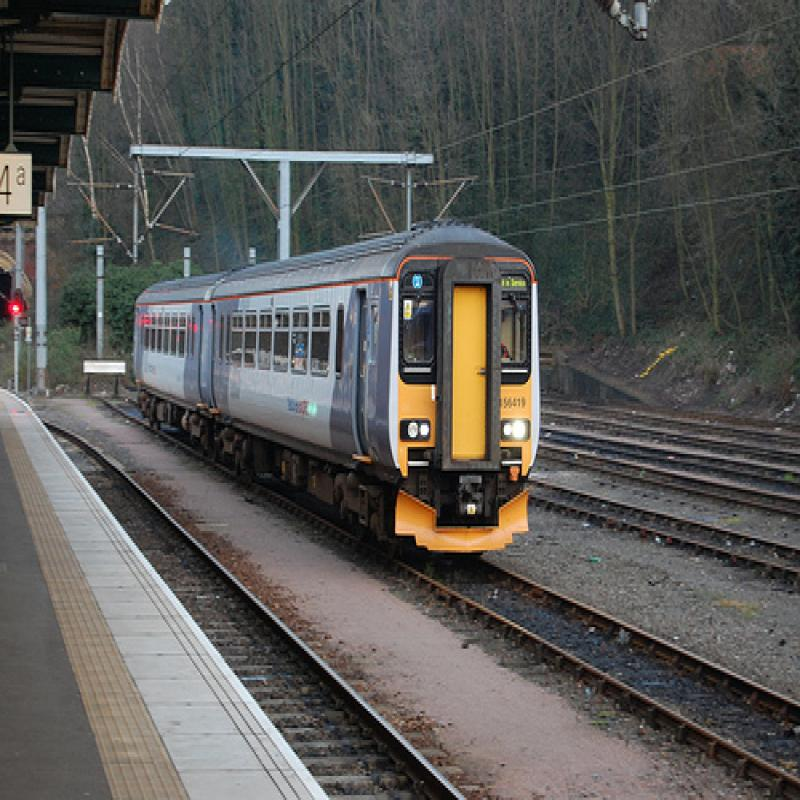train: (131, 227, 547, 563)
